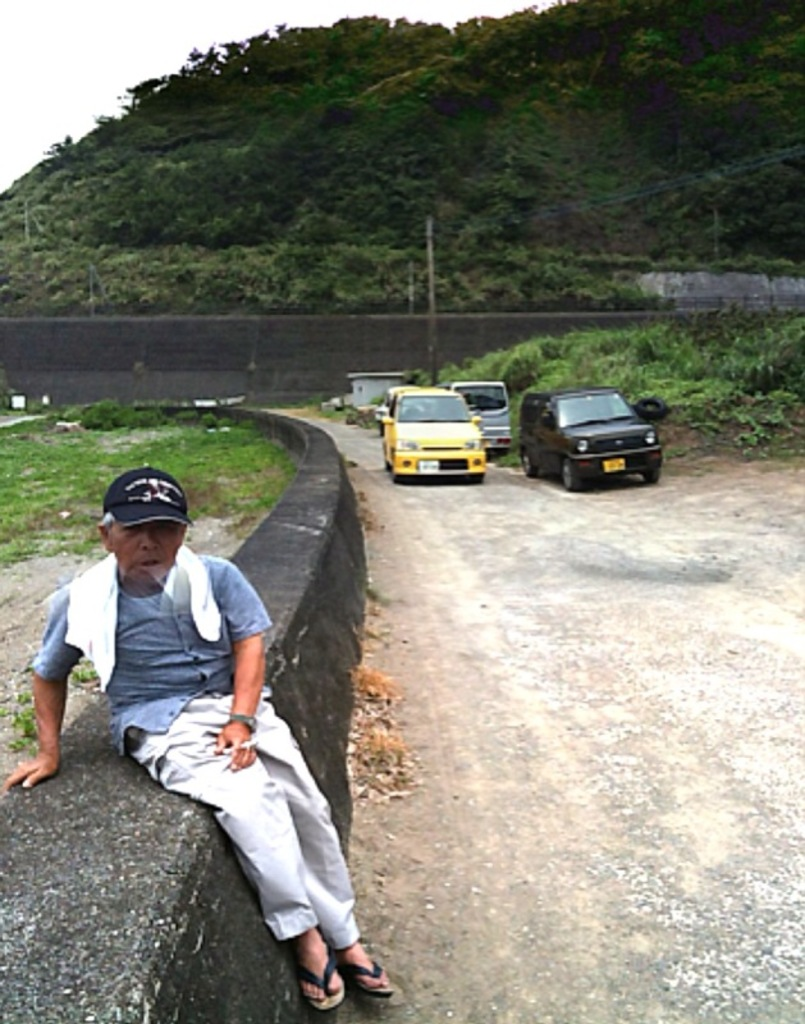Car: (520, 371, 662, 482), (376, 386, 487, 485), (451, 378, 522, 450)
